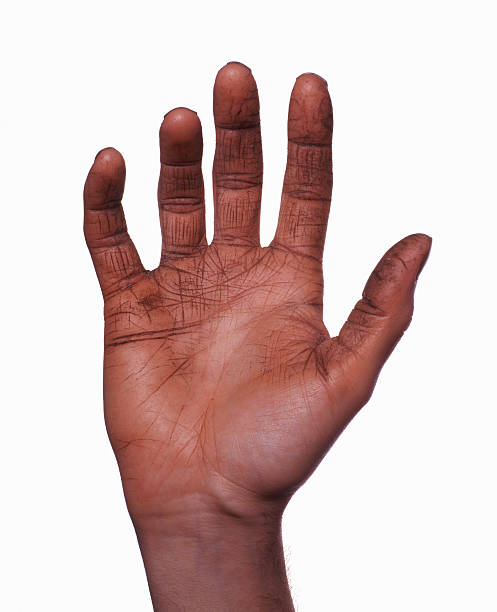hand: (37, 39, 460, 540)
